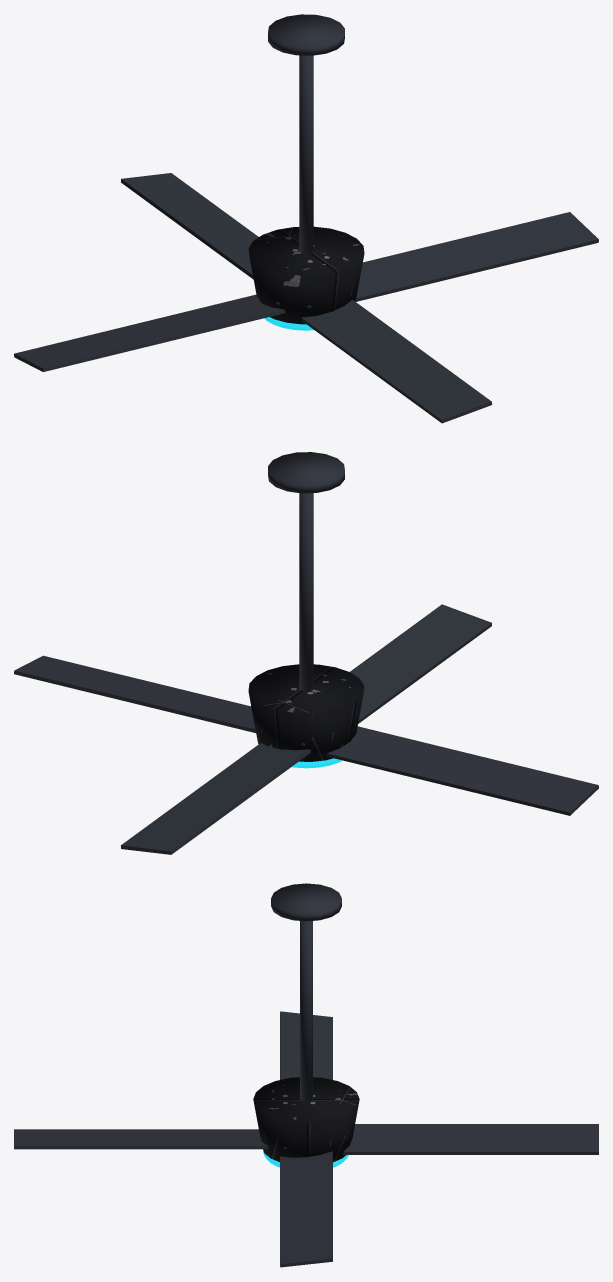
Rendered from Arch_Ceiling_Fan.gltf.
3 views of the same model, one above another, from view 1: azimuth 30°, elevation 25°; view 2: azimuth 150°, elevation 25°; view 3: azimuth 270°, elevation 25° (orthographic). The views are drawn at different scales.
Parts seen in each view (by area): view 1: Fan_Blades, Arch_Ceiling_Fan; view 2: Fan_Blades, Arch_Ceiling_Fan; view 3: Fan_Blades, Arch_Ceiling_Fan.
Boxes of the visible parts, bbox=[...] form: Fan_Blades: bbox=[14, 173, 598, 423]; Arch_Ceiling_Fan: bbox=[248, 14, 364, 330]; Fan_Blades: bbox=[14, 604, 598, 854]; Arch_Ceiling_Fan: bbox=[248, 452, 364, 768]; Fan_Blades: bbox=[14, 1011, 598, 1267]; Arch_Ceiling_Fan: bbox=[253, 883, 359, 1167].
Bounding box in the file's own units: 1.32 × 0.6369 × 1.32.
3 materials, 1 textured.
